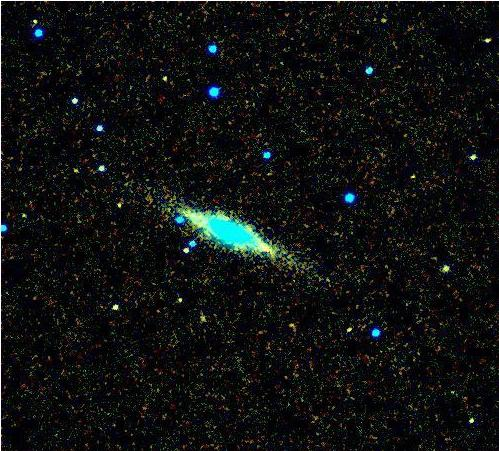star: (171, 233, 201, 263)
